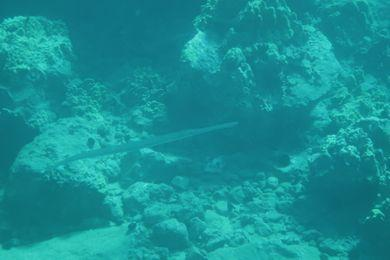Fistularia commersonii: (24, 108, 272, 174)
